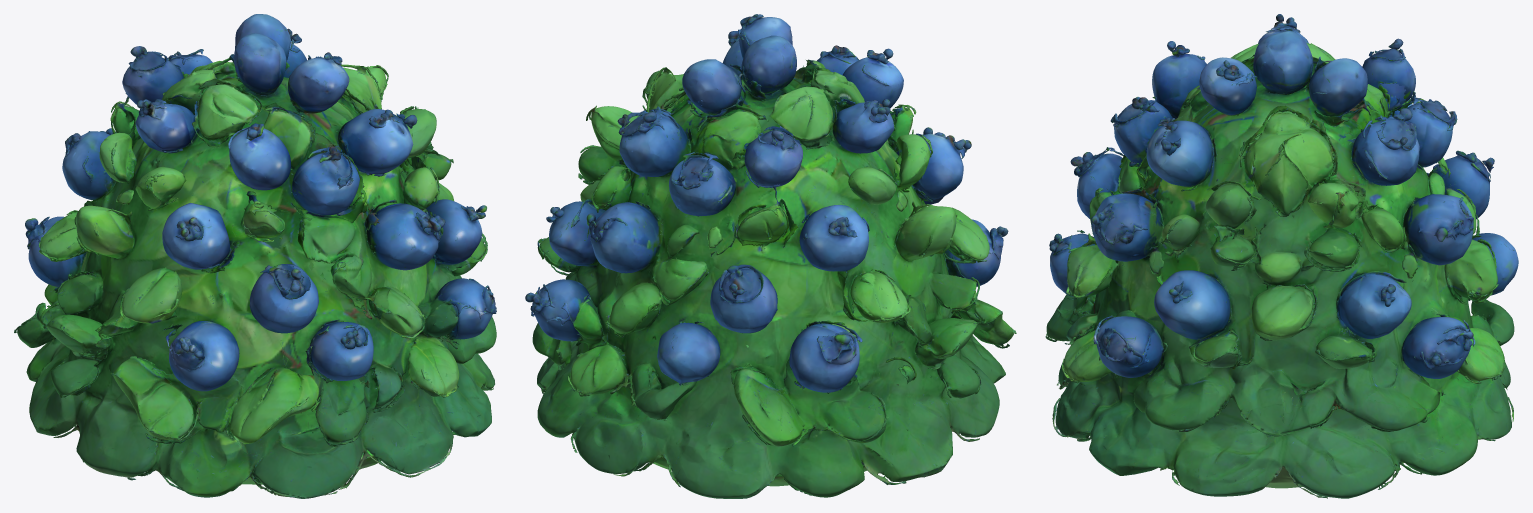
Rendered from berryfull.glb.
The picture shows the model from 3 angles, left to right: view 1: azimuth 30°, elevation 25°; view 2: azimuth 150°, elevation 25°; view 3: azimuth 270°, elevation 25°; orthographic projection.
Bounding box in the file's own units: 1.99 × 1.9 × 1.98.
1 material, 1 textured.
